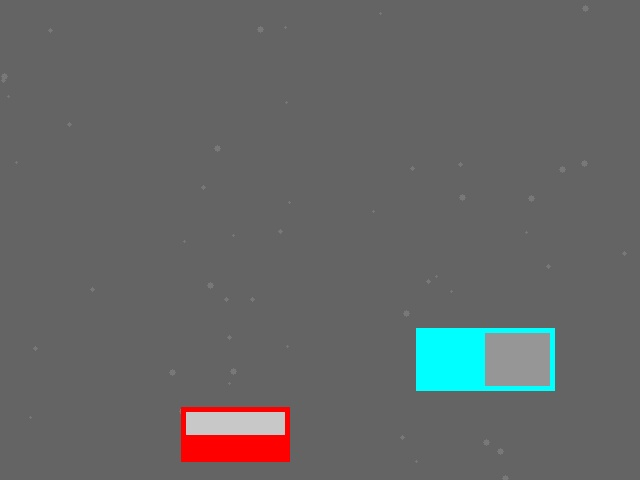car: (181, 407, 289, 461)
truck: (416, 328, 554, 390)
